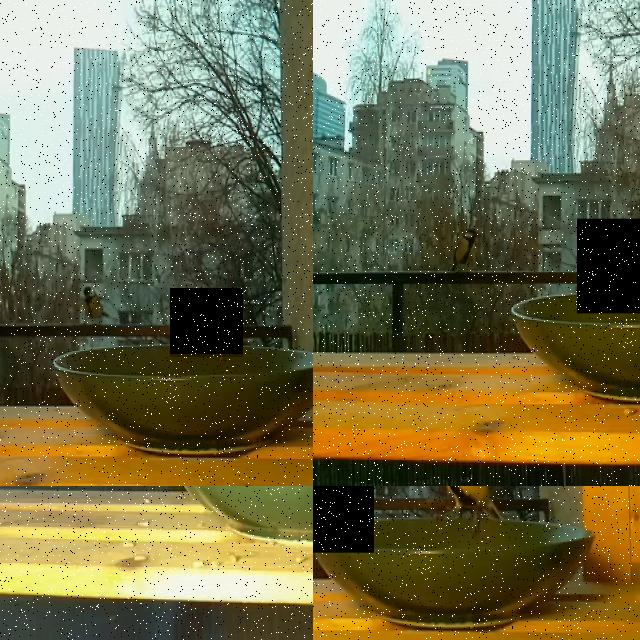Bogatka: (430, 486, 506, 529)
Modraszka: (577, 218, 640, 313)
Wrobel: (170, 288, 243, 356), (313, 486, 374, 552)
